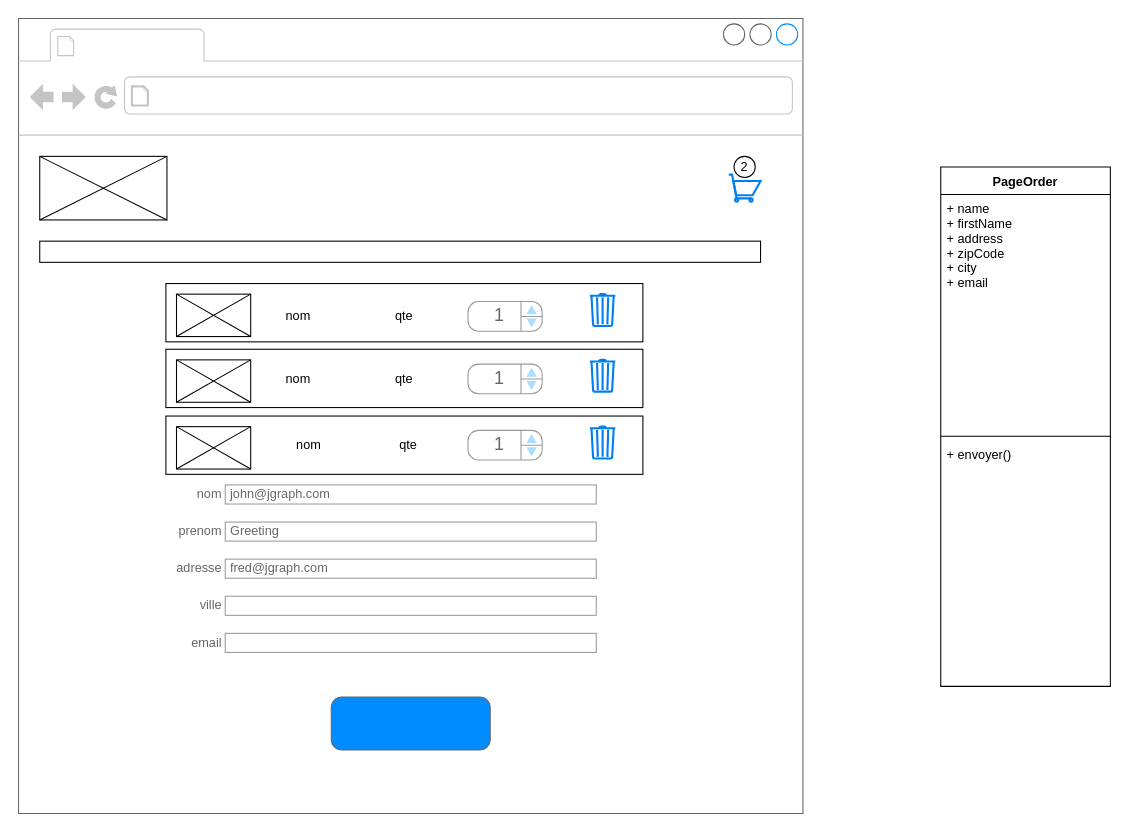
This 1129x832 diagram has some shape labels left out. The shapes that lost their labels are listed below. From the top down, each one's centre as x and y in pixels, then its label:
At point 140,44: "Page 1".
At point 288,95: "https://orinoco.com/?panier".
At point 400,251: "orinokids > accueil > commande".
At point 410,723: "envoyer".
